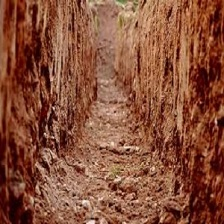clay_soil: (17, 21, 210, 199)
